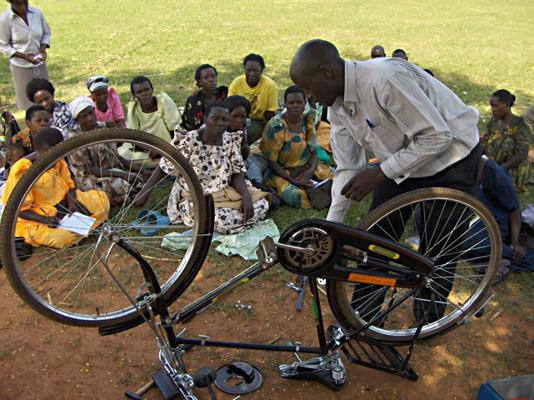person: (291, 38, 488, 340)
